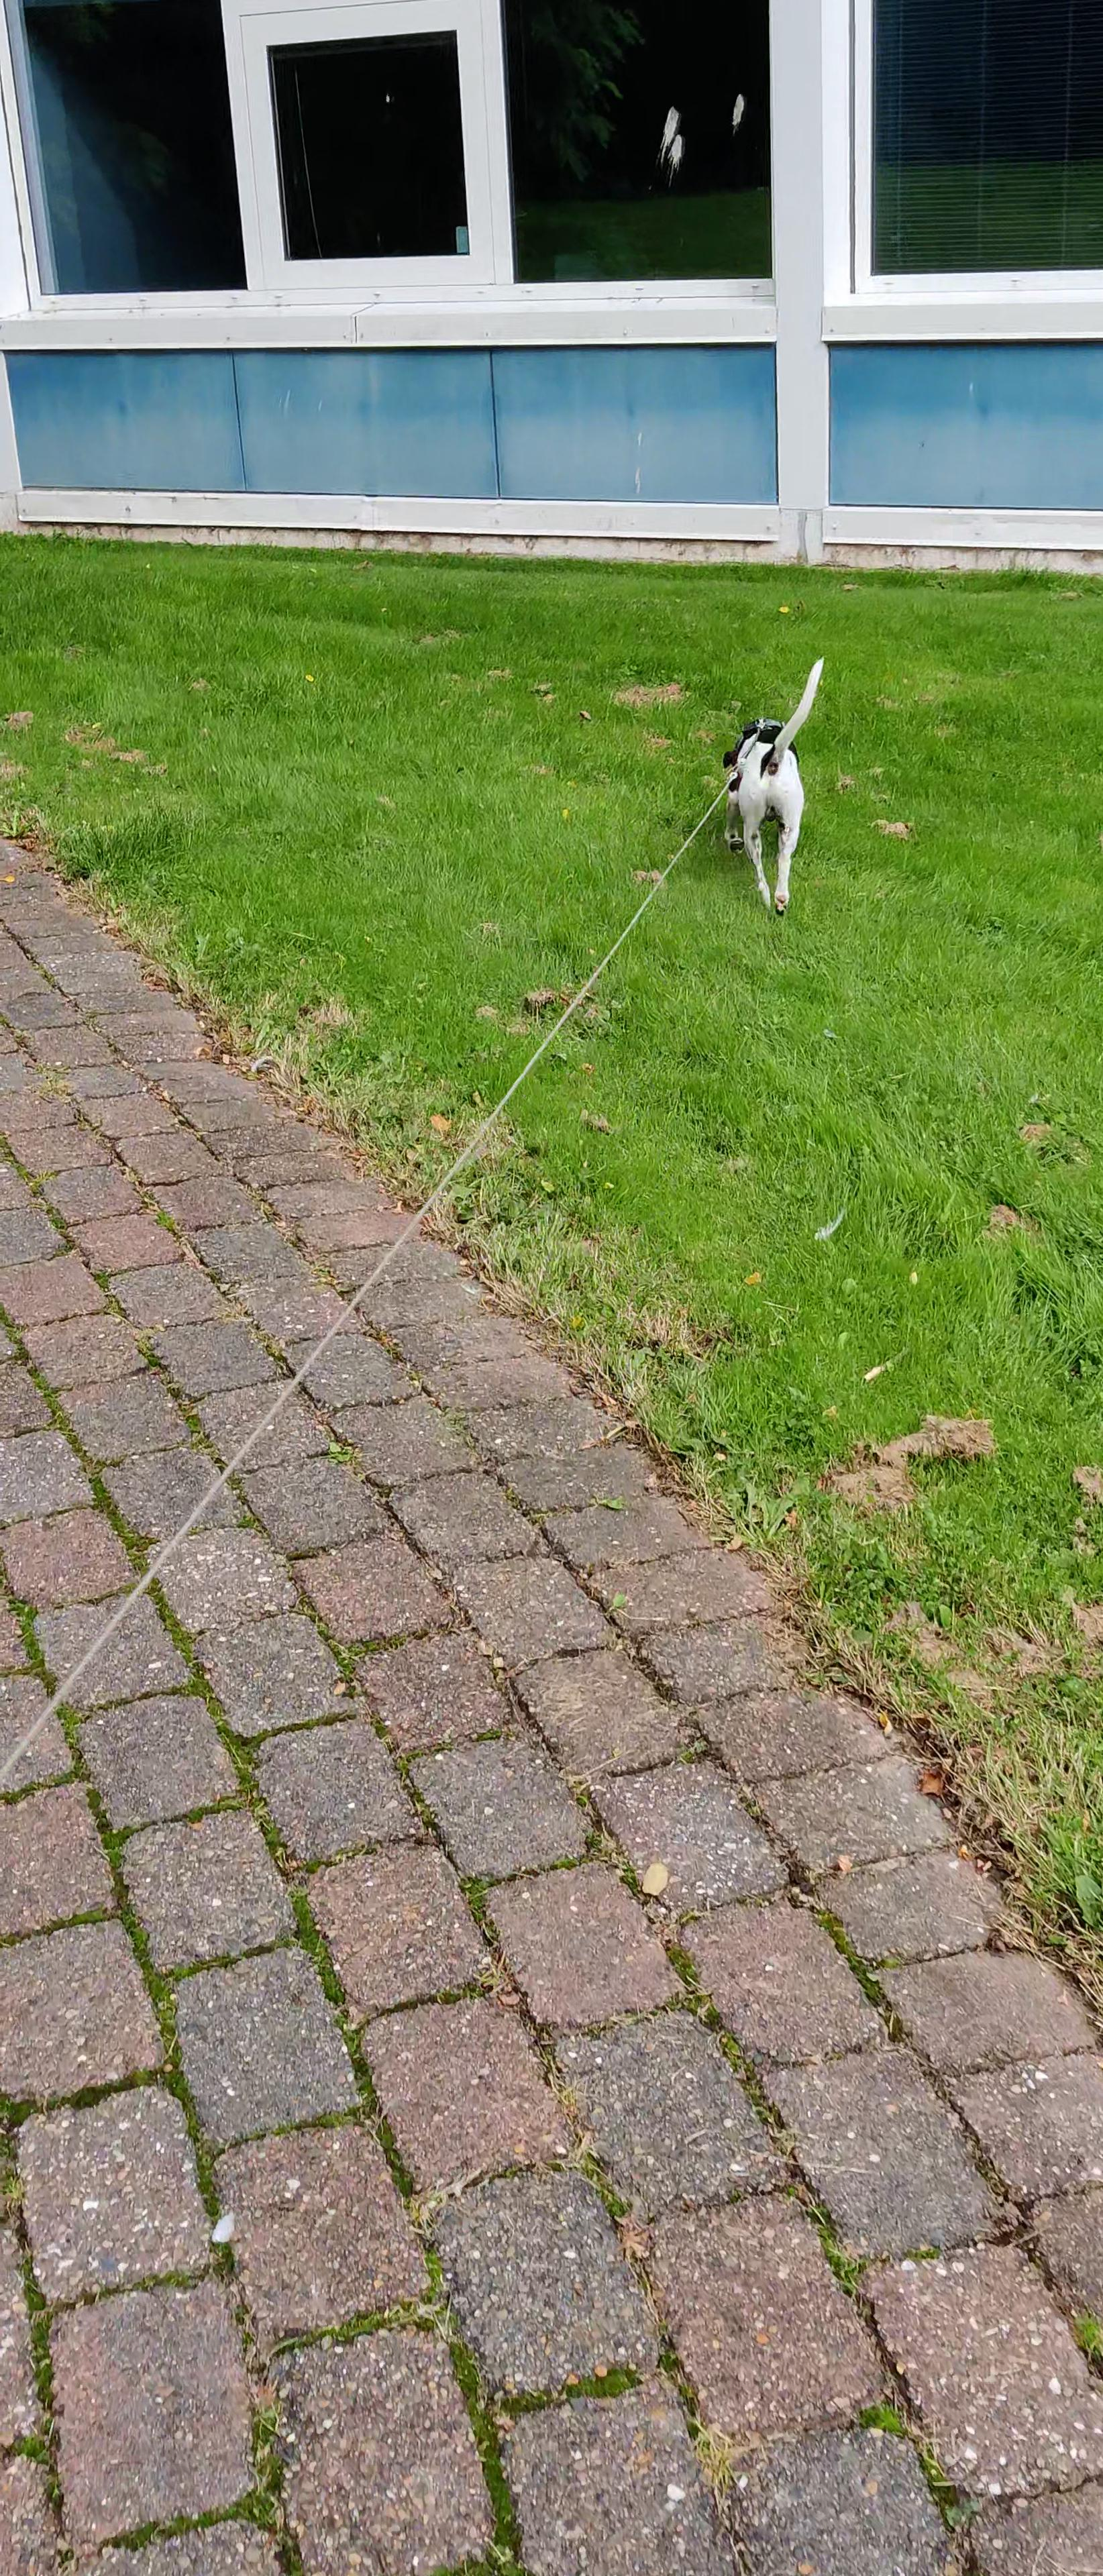Dog: (715, 657, 828, 917)
